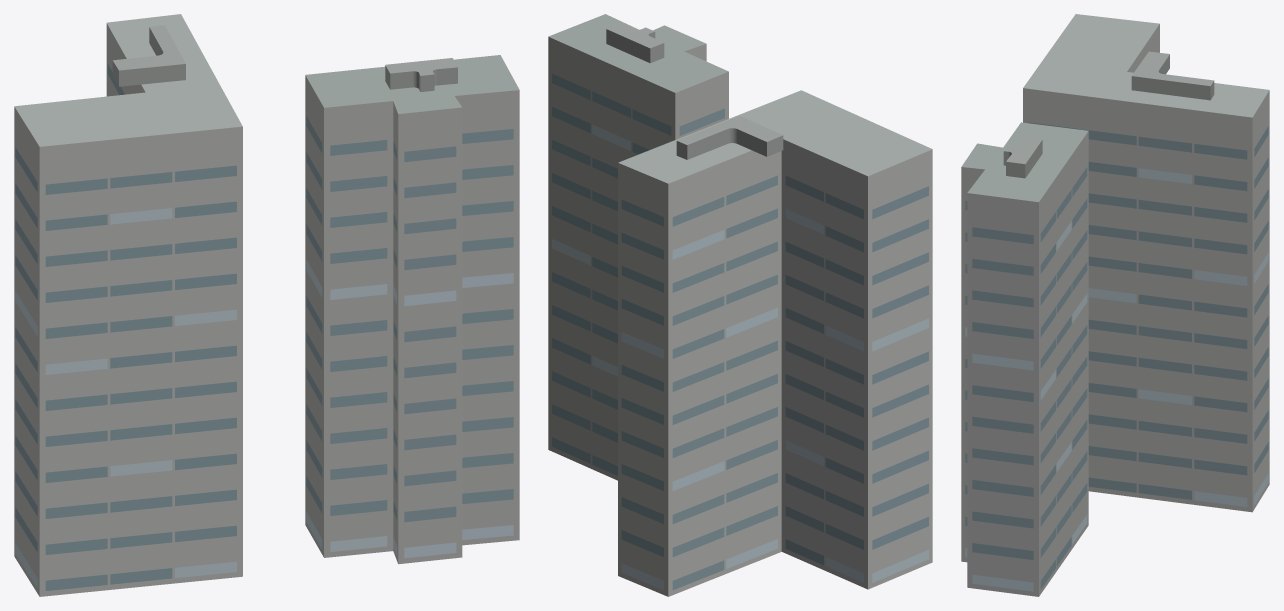
File: apt-a15209303.glb
3 views of the same model, side by side, from view 1: azimuth 30°, elevation 25°; view 2: azimuth 150°, elevation 25°; view 3: azimuth 270°, elevation 25° (orthographic). The views are drawn at different scales.
Parts seen in each view (by area): view 1: apt-a15209303; view 2: apt-a15209303; view 3: apt-a15209303.
Part boxes in pixels (x1=…): apt-a15209303: x1=14, y1=14, x2=519, y2=596; apt-a15209303: x1=548, y1=14, x2=932, y2=596; apt-a15209303: x1=961, y1=14, x2=1269, y2=596.
Size of the model in its own units: 68.12 by 69 by 47.14.
